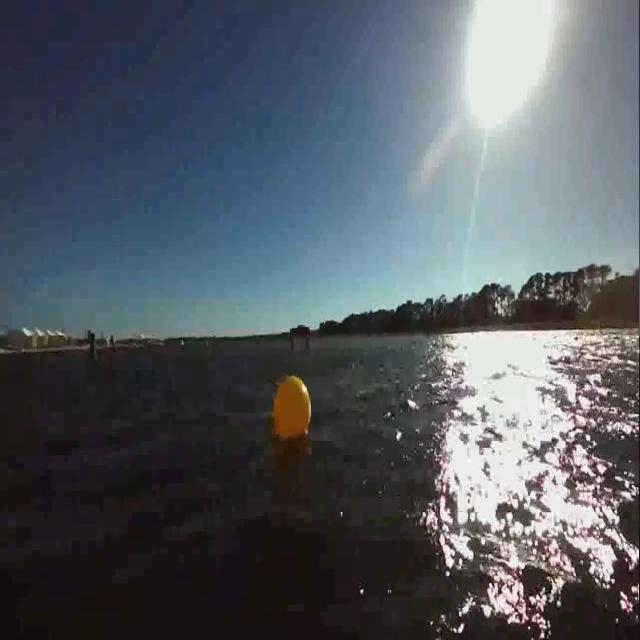yellow-buoy: (274, 375, 312, 444)
